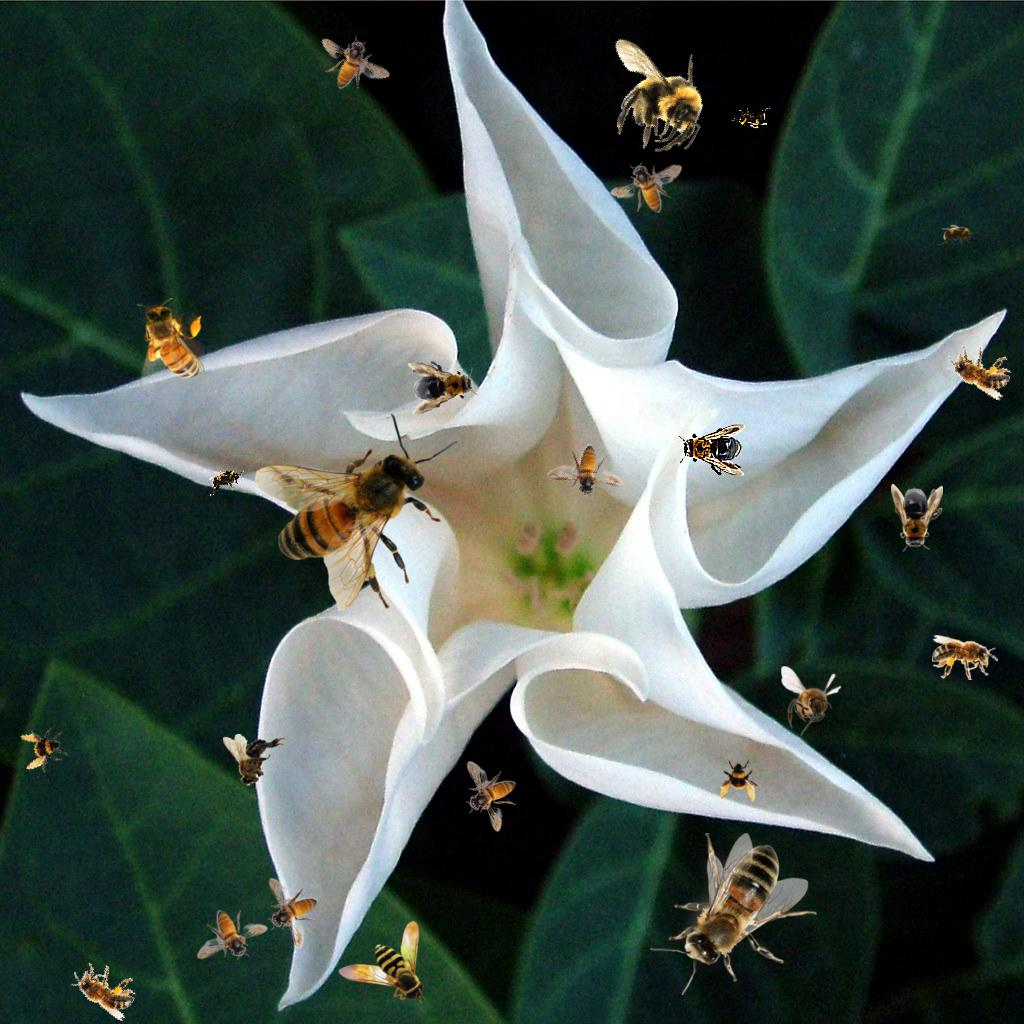Bee: (254, 412, 458, 611), (650, 833, 817, 995), (577, 19, 730, 168), (308, 19, 392, 106), (338, 921, 426, 1003), (545, 433, 633, 512), (137, 298, 205, 391), (63, 954, 143, 1023), (939, 337, 1017, 402), (406, 355, 480, 415), (781, 666, 842, 736), (609, 161, 683, 214), (268, 878, 318, 949), (466, 761, 516, 832), (197, 910, 268, 960), (891, 484, 943, 552), (678, 424, 746, 476), (223, 734, 285, 787), (16, 722, 72, 778), (932, 635, 998, 680), (718, 758, 762, 802), (203, 463, 249, 497), (938, 224, 978, 246), (731, 107, 771, 129)
